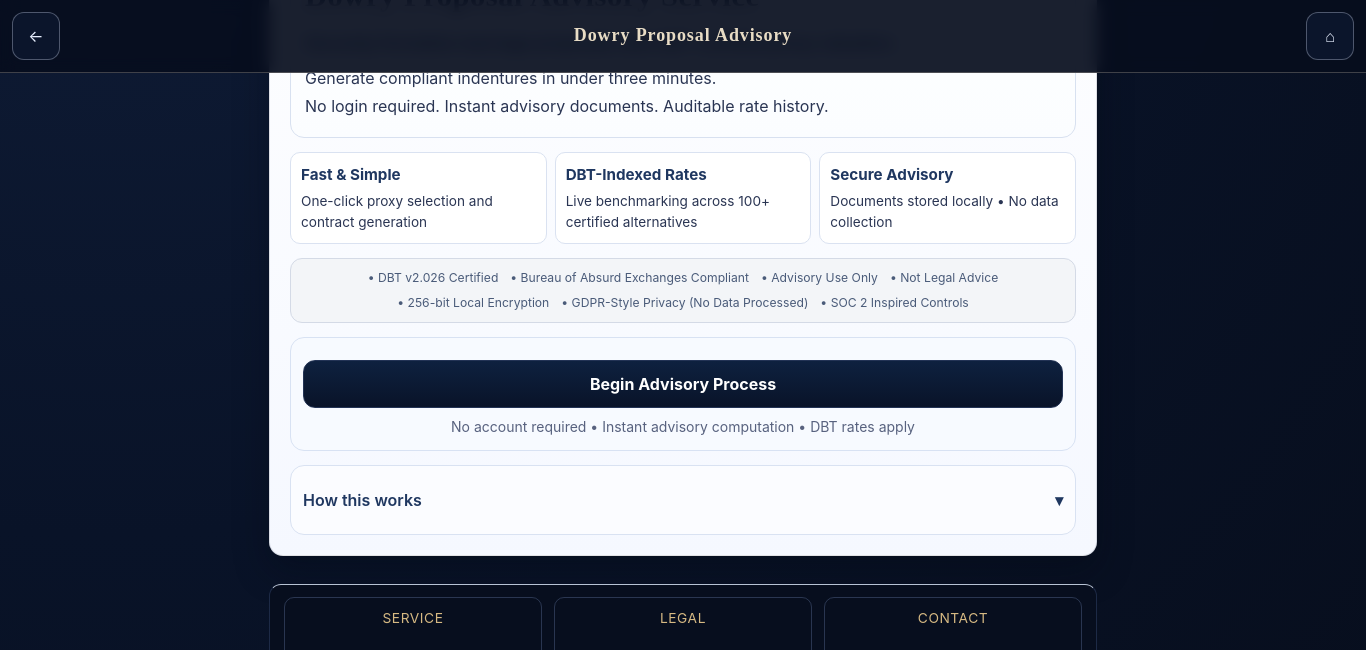
Test: Accessibility smoke checks › gives every proxy card an accessible name that includes its description
This screenshot has width=1366, height=650.
(page scrolled)
Click the button "Begin Advisory Process" at coordinates (683, 384), box [303,360,1063,408]
(page scrolled)
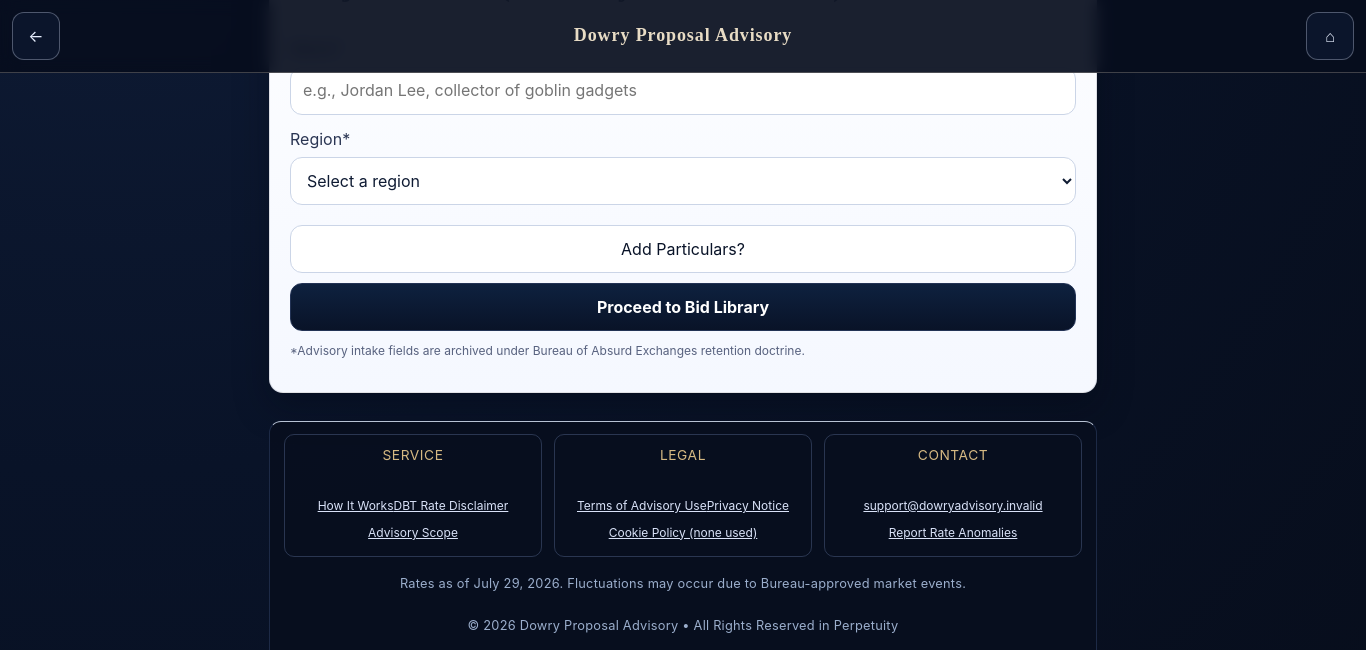
Type "Sara" into the field labelled "Name*" at coordinates (683, 91), box [290,67,1076,115]
(page scrolled)
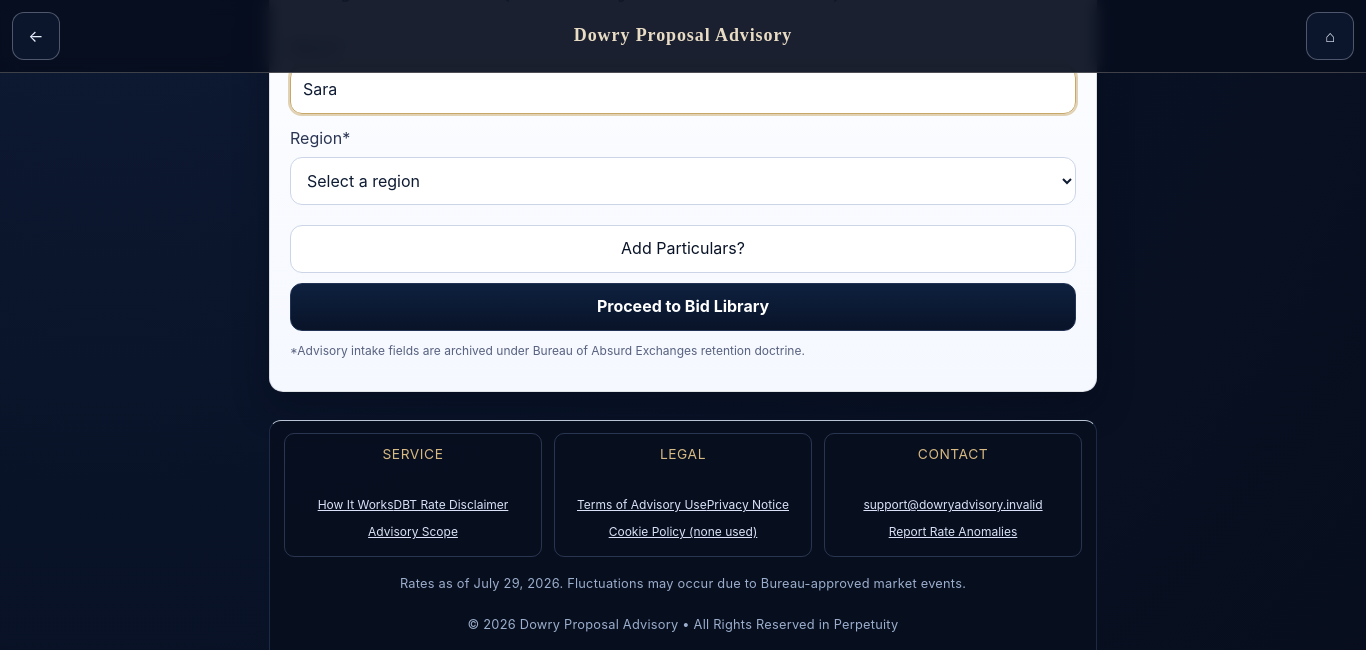
Select "United Kingdom" in the dropdown labelled "Region*" at coordinates (683, 181), box [290,157,1076,205]
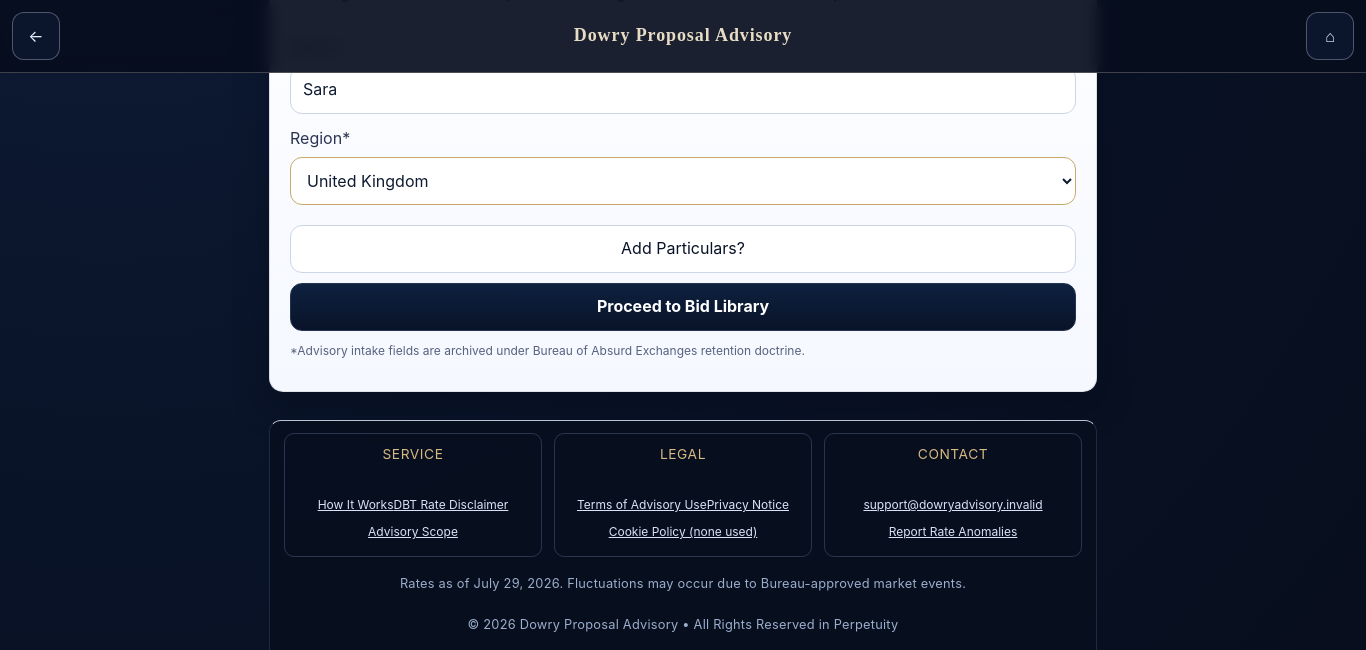
Click the button "Proceed to Bid Library" at coordinates (683, 307), box [290,283,1076,331]
(page scrolled)
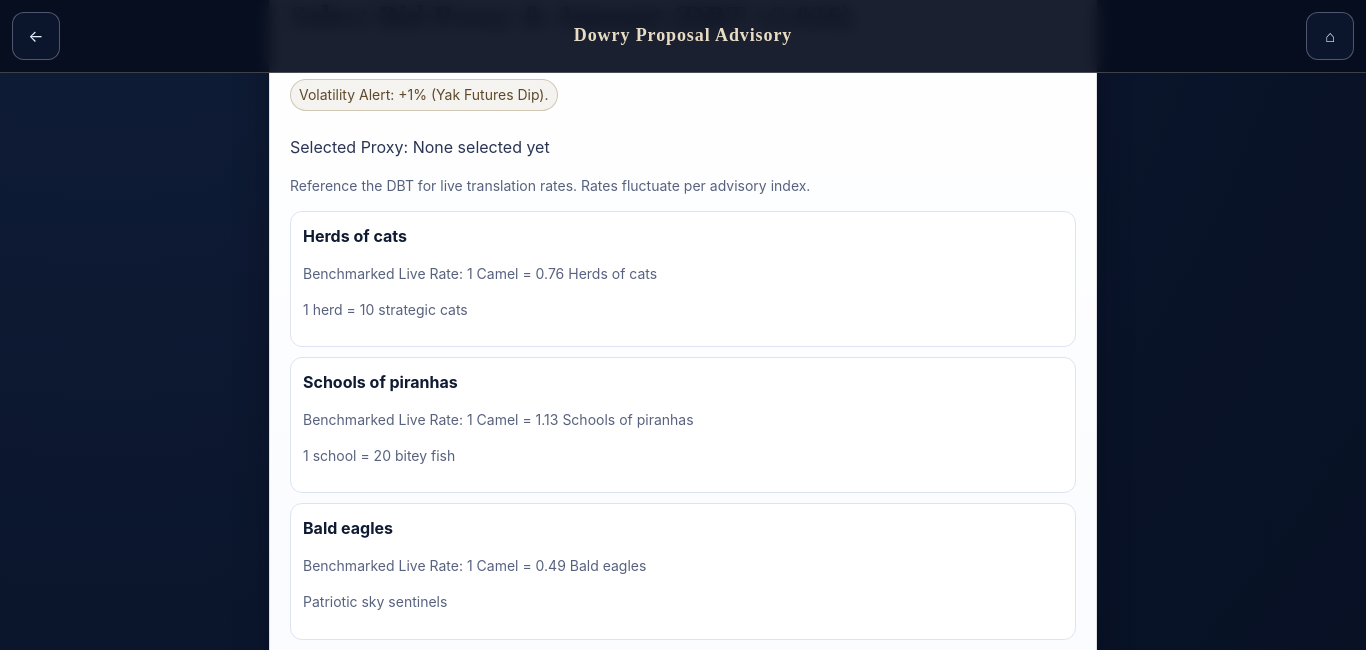
Now the number of buttons is more than 0
